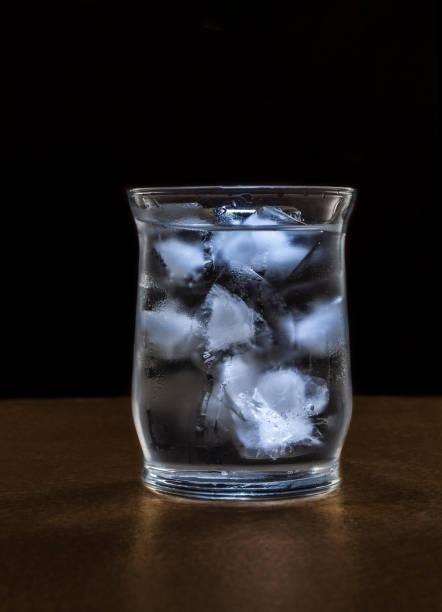glass-normal: (126, 182, 358, 502)
